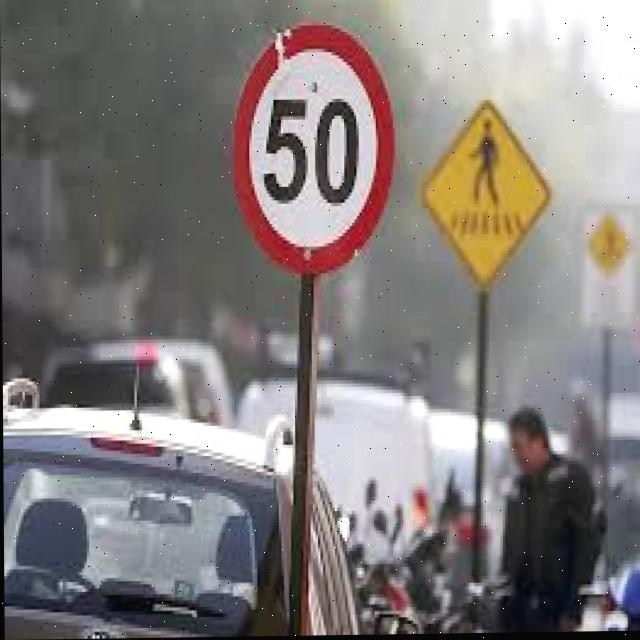Speed limit 50: (230, 20, 399, 280)
